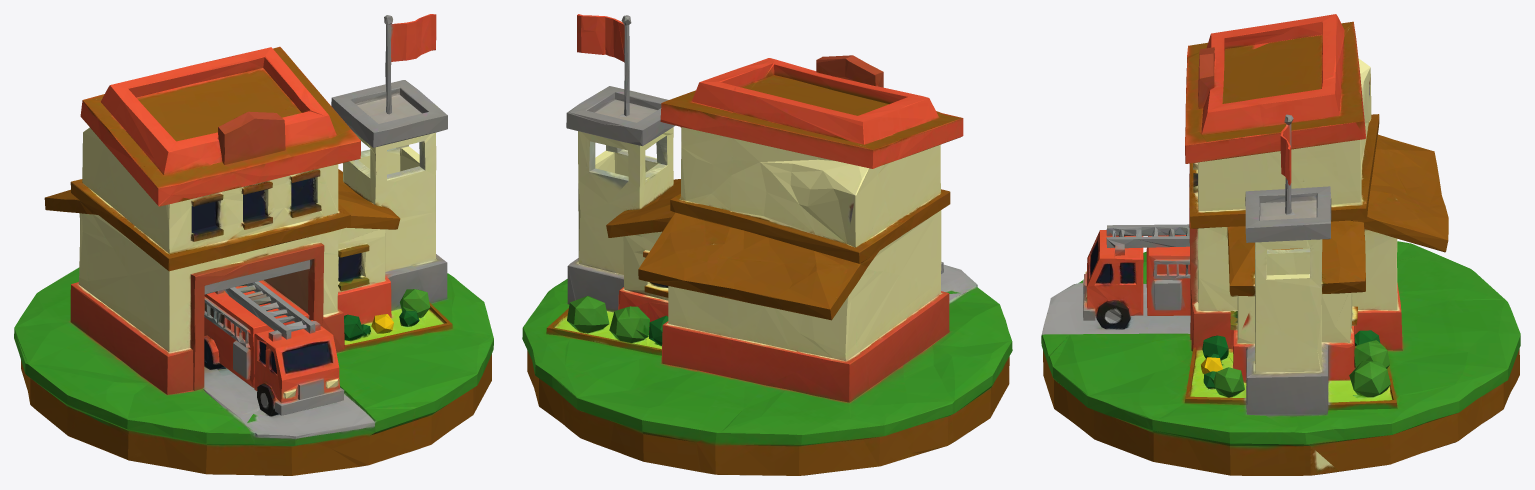
Rendered from rio-bombeiro.glb.
The picture shows the model from 3 angles, left to right: view 1: azimuth 30°, elevation 25°; view 2: azimuth 150°, elevation 25°; view 3: azimuth 270°, elevation 25°; orthographic projection. The views are drawn at different scales.
Parts seen in each view (by area): view 1: tripo_node_e660693d-8da6-4961-b518-81466184c80e; view 2: tripo_node_e660693d-8da6-4961-b518-81466184c80e; view 3: tripo_node_e660693d-8da6-4961-b518-81466184c80e.
Boxes of the visible parts, <box> form: tripo_node_e660693d-8da6-4961-b518-81466184c80e: <box>14,14,493,475</box>; tripo_node_e660693d-8da6-4961-b518-81466184c80e: <box>522,14,1012,475</box>; tripo_node_e660693d-8da6-4961-b518-81466184c80e: <box>1041,14,1520,475</box>.
Size of the model in its own units: 0.9993 by 0.7592 by 0.9989.
Materials: 1 (1 with a texture image).
